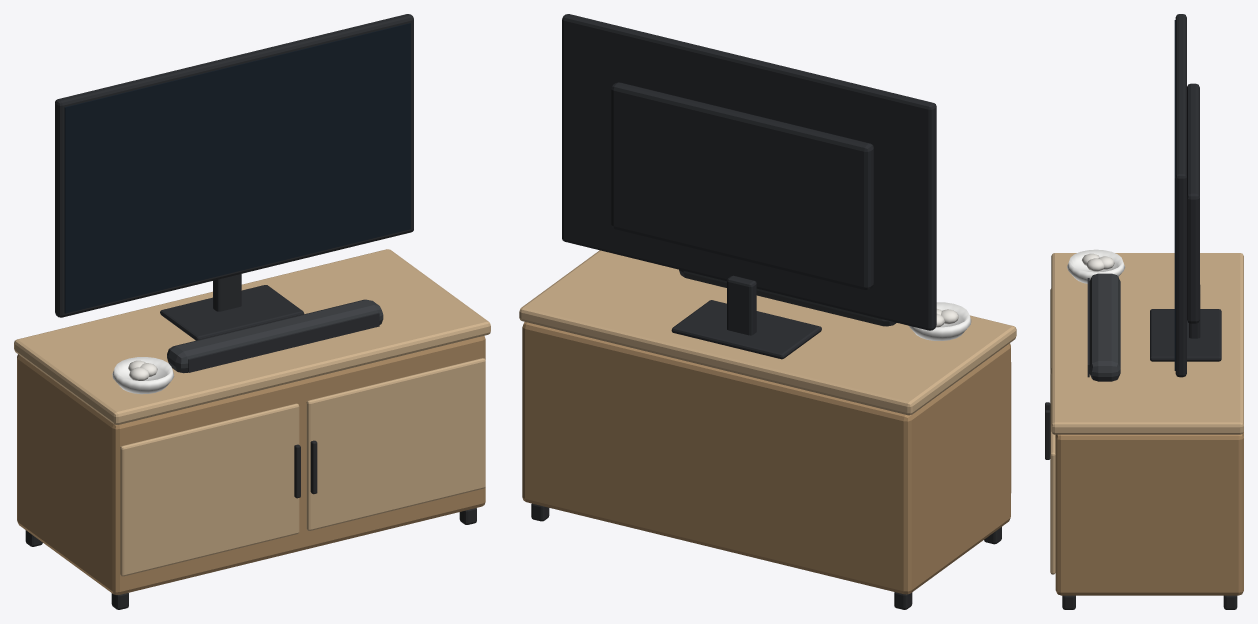
3 views of the same model, side by side, from view 1: azimuth 30°, elevation 25°; view 2: azimuth 150°, elevation 25°; view 3: azimuth 270°, elevation 25° (orthographic). The views are drawn at different scales.
Visible parts, largest first — view 1: tv; view 2: tv; view 3: tv.
Part boxes in pixels (x1,y1,x2,y2): tv: (14,14,490,609); tv: (519,14,1016,609); tv: (1045,14,1243,609).
Size of the model in its own units: 0.91 by 1.07 by 0.444.
